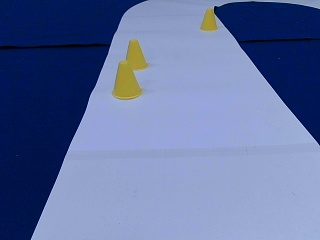cone: (112, 61, 143, 99), (124, 40, 148, 71), (200, 8, 216, 30)
